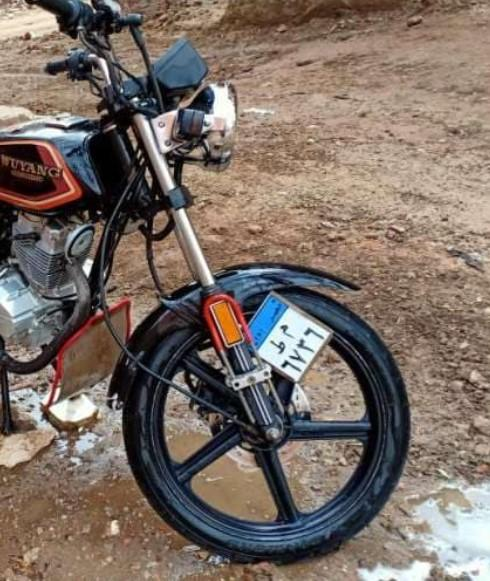License Plate: (244, 294, 335, 378)
